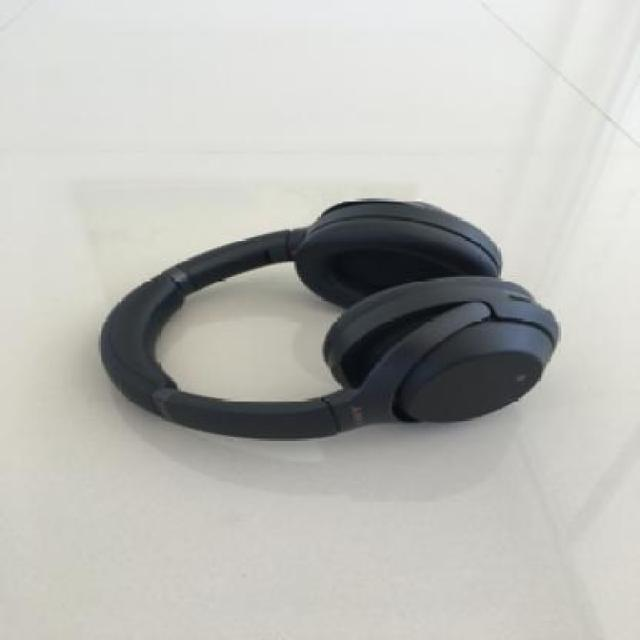earphone: (128, 94, 565, 484)
